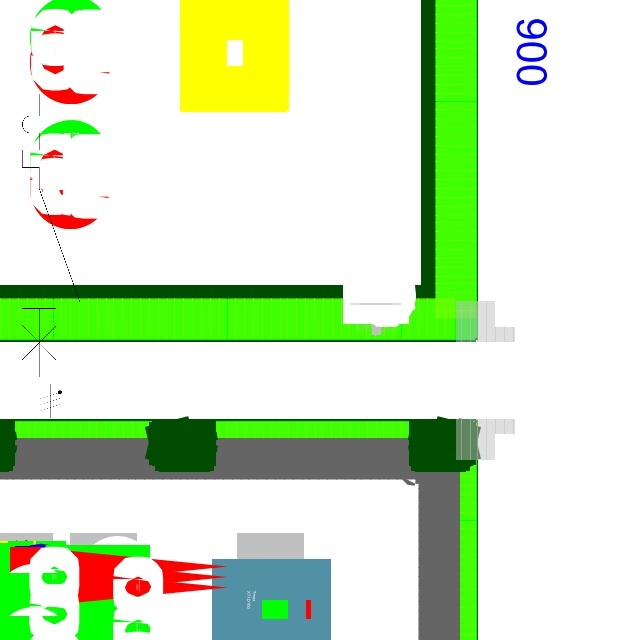interruptor_termomagnetico: (15, 87, 87, 384)
